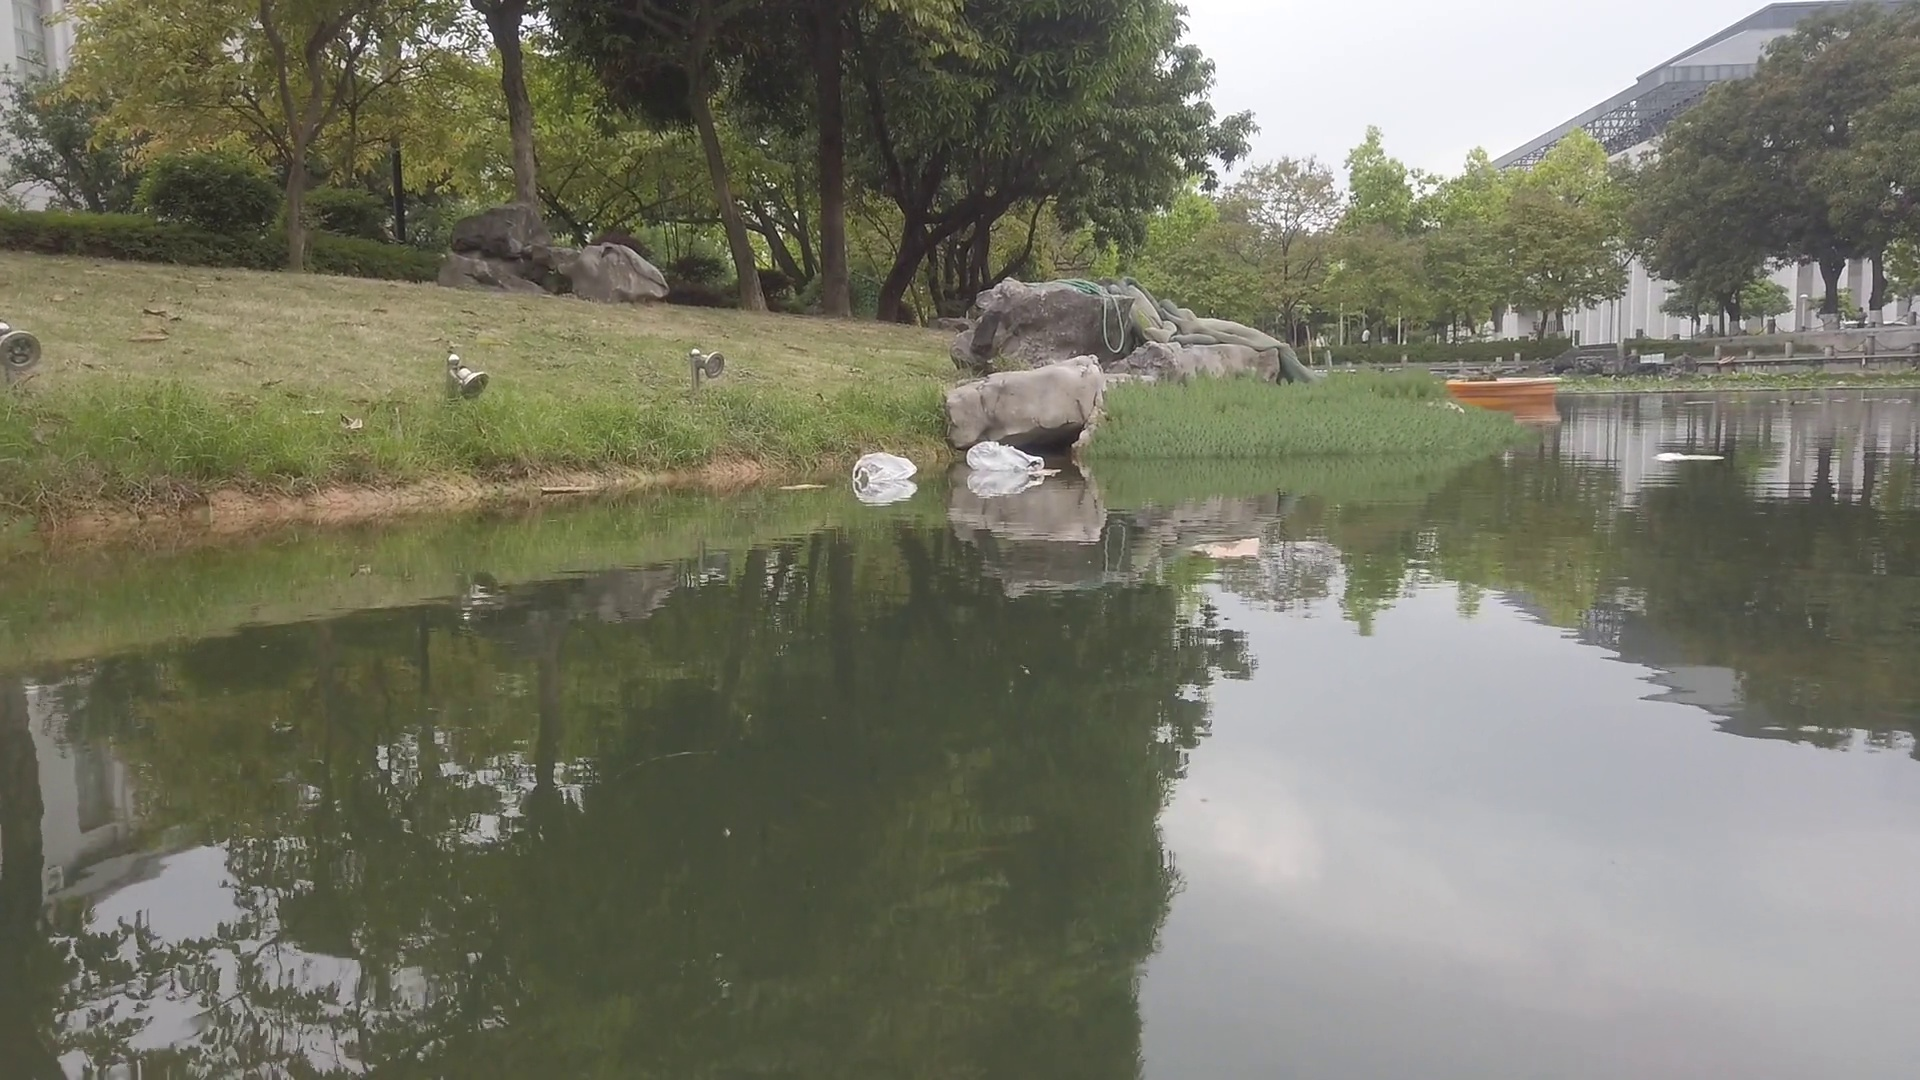paper: (1195, 535, 1267, 562), (1655, 450, 1731, 465), (541, 483, 595, 495), (1029, 467, 1060, 483), (781, 483, 831, 491)
plastic: (969, 440, 1044, 479), (849, 454, 918, 487)
